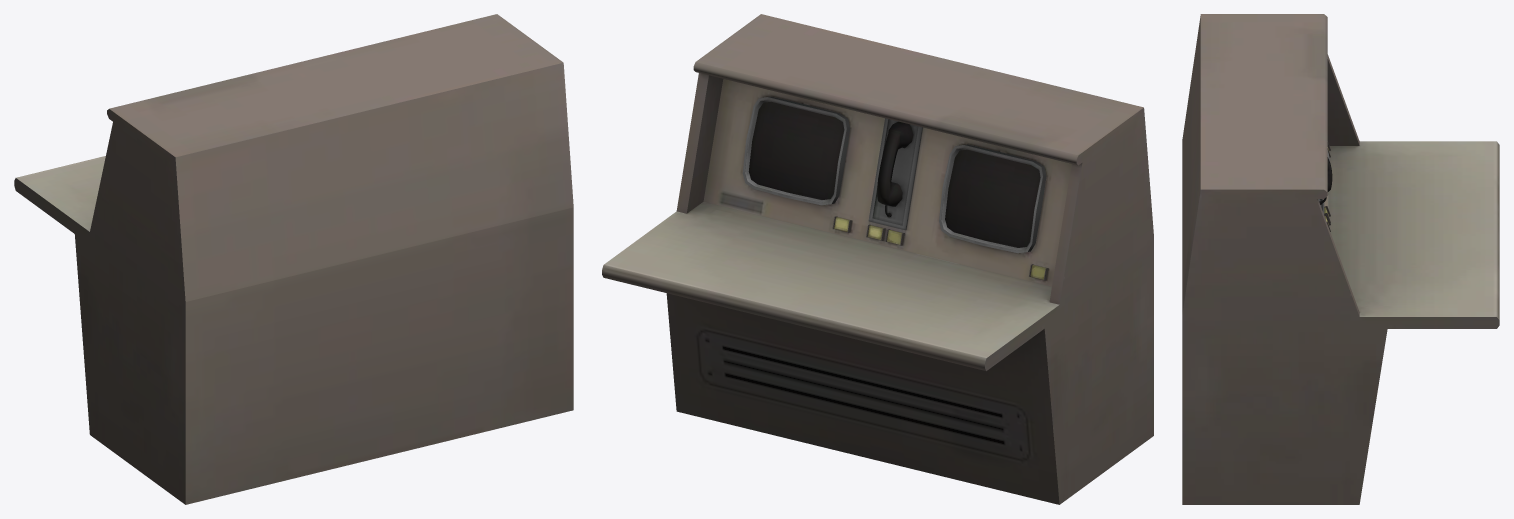
3 views of the same model, side by side, from view 1: azimuth 30°, elevation 25°; view 2: azimuth 150°, elevation 25°; view 3: azimuth 270°, elevation 25° (orthographic). The views are drawn at different scales.
Visible parts, largest first — view 1: body0_model0_lod0_mesh0; view 2: body0_model0_lod0_mesh0; view 3: body0_model0_lod0_mesh0.
Boxes of the visible parts, bbox=[...] form: body0_model0_lod0_mesh0: bbox=[14, 14, 573, 504]; body0_model0_lod0_mesh0: bbox=[602, 14, 1153, 504]; body0_model0_lod0_mesh0: bbox=[1182, 14, 1499, 504].
Bounding box in the file's own units: 80 × 67.01 × 61.16.
1 material, 1 textured.
